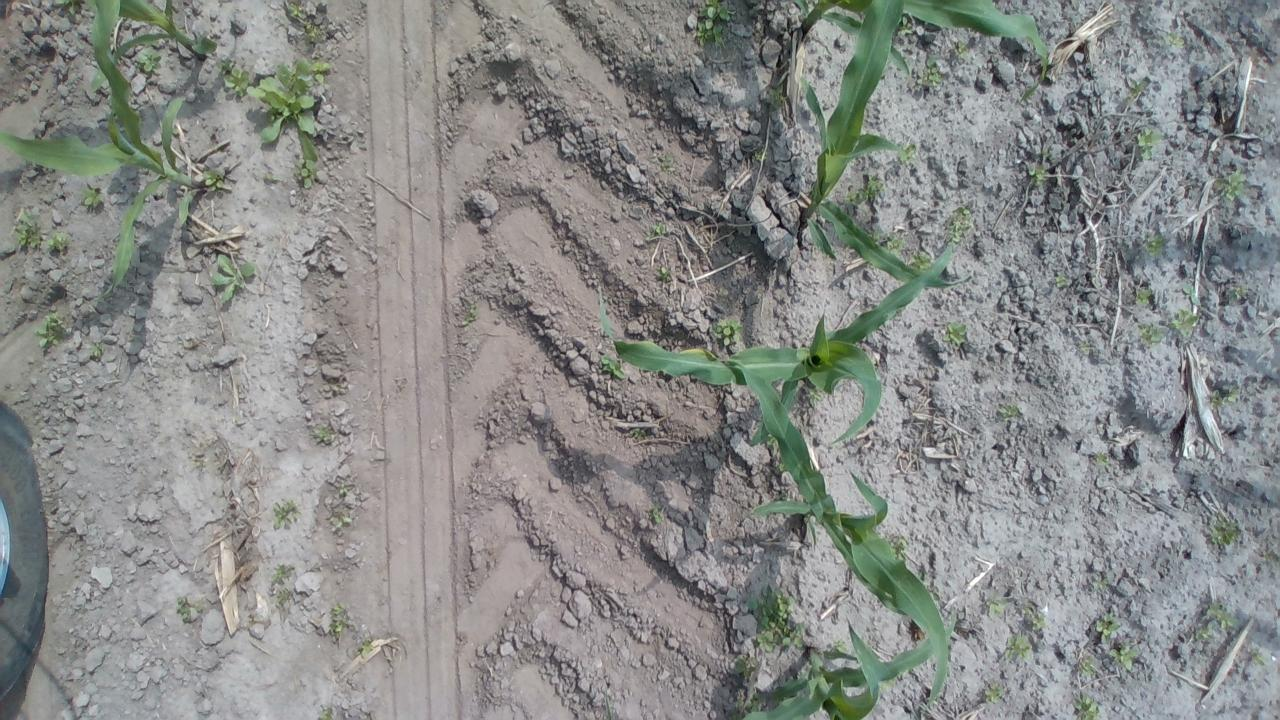Maize: (714, 352, 954, 712), (594, 236, 956, 444), (0, 0, 212, 299), (796, 0, 973, 293), (788, 0, 1050, 107), (741, 607, 958, 720), (88, 0, 218, 94)
Weeds: (246, 57, 332, 144), (746, 588, 808, 654), (212, 254, 259, 304), (691, 0, 734, 46), (215, 56, 251, 99), (944, 206, 974, 248), (12, 207, 42, 247), (1215, 167, 1249, 201), (34, 310, 64, 348), (294, 144, 318, 189), (270, 497, 302, 530), (1136, 127, 1168, 160), (914, 52, 944, 87), (711, 316, 746, 346), (1206, 602, 1242, 629), (1168, 308, 1200, 338), (1207, 516, 1238, 545), (1094, 612, 1122, 644), (328, 602, 351, 640), (132, 46, 162, 74), (1108, 644, 1138, 672), (941, 320, 970, 347), (733, 693, 762, 720), (1006, 632, 1033, 661), (984, 590, 1010, 618), (734, 654, 760, 681), (302, 19, 326, 48), (600, 354, 626, 380), (1137, 322, 1162, 348), (176, 594, 202, 619), (78, 184, 105, 208), (1073, 696, 1100, 720), (1212, 386, 1240, 409), (46, 230, 69, 258), (202, 168, 228, 192), (862, 175, 886, 199), (768, 80, 786, 110), (1194, 620, 1216, 642), (1026, 162, 1047, 185), (888, 535, 907, 560), (910, 250, 931, 272), (950, 38, 970, 61), (644, 222, 668, 241), (1161, 30, 1185, 49), (997, 403, 1022, 421), (284, 2, 304, 24), (270, 564, 292, 584), (984, 682, 1004, 704), (1144, 234, 1164, 256), (52, 0, 81, 15), (659, 151, 676, 175), (842, 187, 866, 204), (898, 141, 918, 161), (806, 386, 825, 407), (1182, 284, 1200, 306), (883, 238, 905, 256), (462, 302, 478, 326), (312, 424, 332, 443), (1030, 613, 1050, 632), (1078, 655, 1097, 675), (274, 588, 292, 608), (332, 512, 353, 529), (1129, 80, 1145, 102), (896, 15, 914, 34), (648, 502, 664, 523), (1134, 288, 1152, 306), (1054, 270, 1070, 290), (88, 340, 104, 360), (654, 264, 672, 280), (832, 638, 848, 654), (1092, 576, 1108, 592), (359, 638, 374, 655), (134, 109, 146, 130), (94, 290, 112, 304), (1092, 450, 1110, 464), (751, 148, 767, 162), (126, 326, 140, 342), (336, 479, 349, 496), (264, 172, 282, 183), (1260, 549, 1274, 563), (318, 706, 332, 720), (868, 230, 881, 245), (768, 433, 781, 448), (606, 701, 616, 720), (1024, 85, 1038, 98), (1234, 287, 1249, 299), (1041, 148, 1054, 160), (929, 590, 942, 602), (880, 679, 897, 688), (1078, 340, 1090, 352), (1252, 654, 1265, 665), (775, 463, 787, 474), (629, 426, 640, 436), (784, 4, 790, 12)
